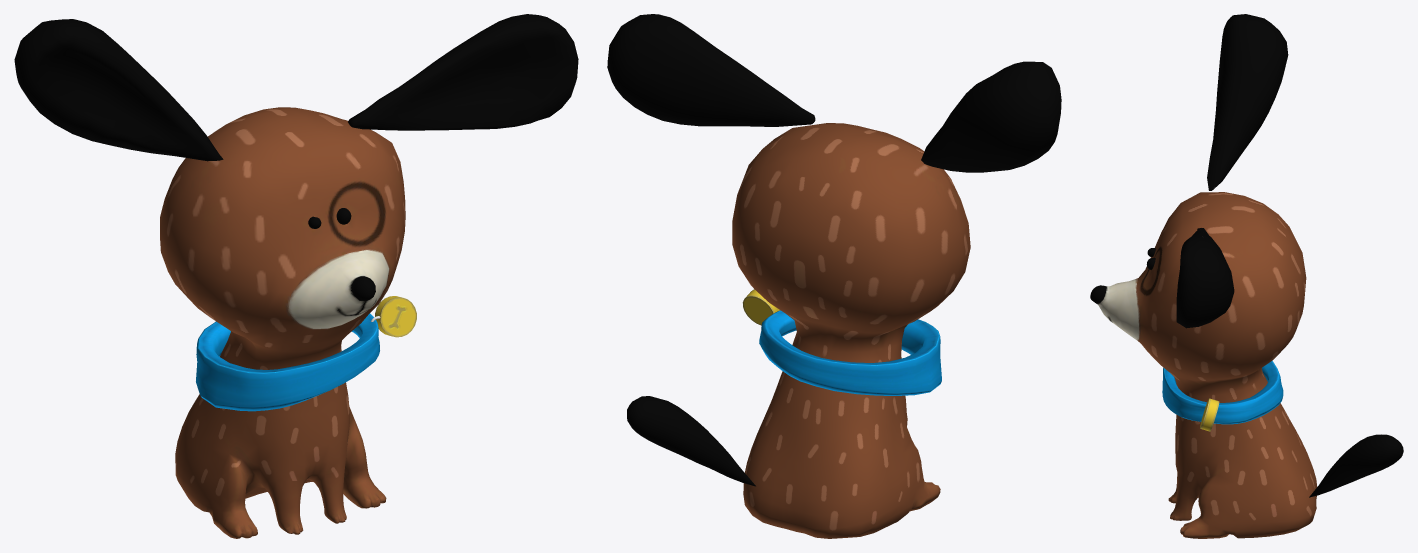
The picture shows the model from 3 angles, left to right: view 1: azimuth 30°, elevation 25°; view 2: azimuth 150°, elevation 25°; view 3: azimuth 270°, elevation 25°; orthographic projection. The views are drawn at different scales.
Parts seen in each view (by area): view 1: node_id34; view 2: node_id34; view 3: node_id34.
Part boxes in pixels (x1=…): node_id34: x1=14, y1=14, x2=578, y2=538; node_id34: x1=607, y1=14, x2=1061, y2=538; node_id34: x1=1090, y1=14, x2=1403, y2=538.
Size of the model in its own units: 0.512 by 0.4955 by 0.341.
1 material, 1 textured.
